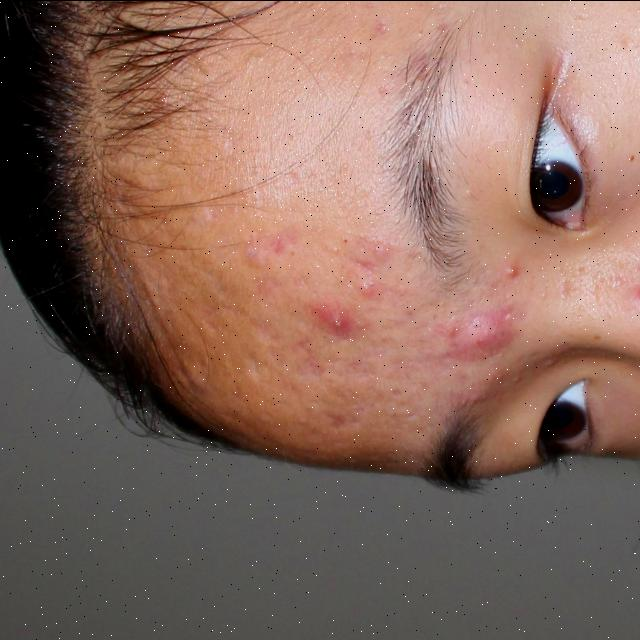nodules: (441, 300, 517, 368)
